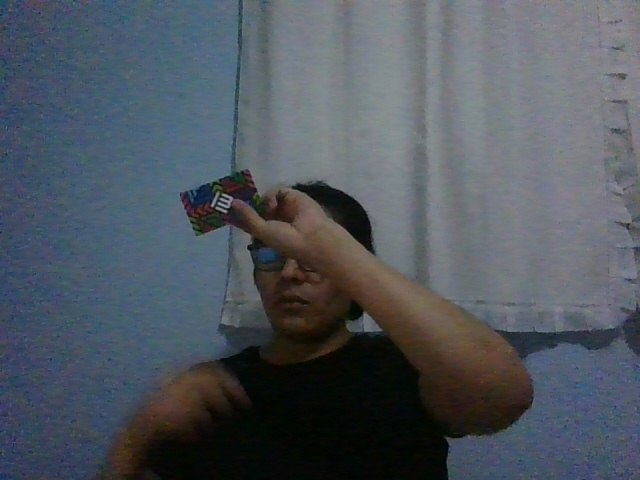tarjeta: (179, 168, 263, 237)
